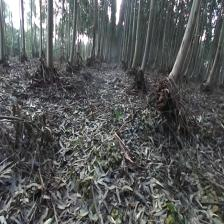trunk: (168, 1, 202, 90), (140, 3, 156, 77), (68, 1, 78, 64), (45, 2, 54, 68), (20, 2, 26, 55)
